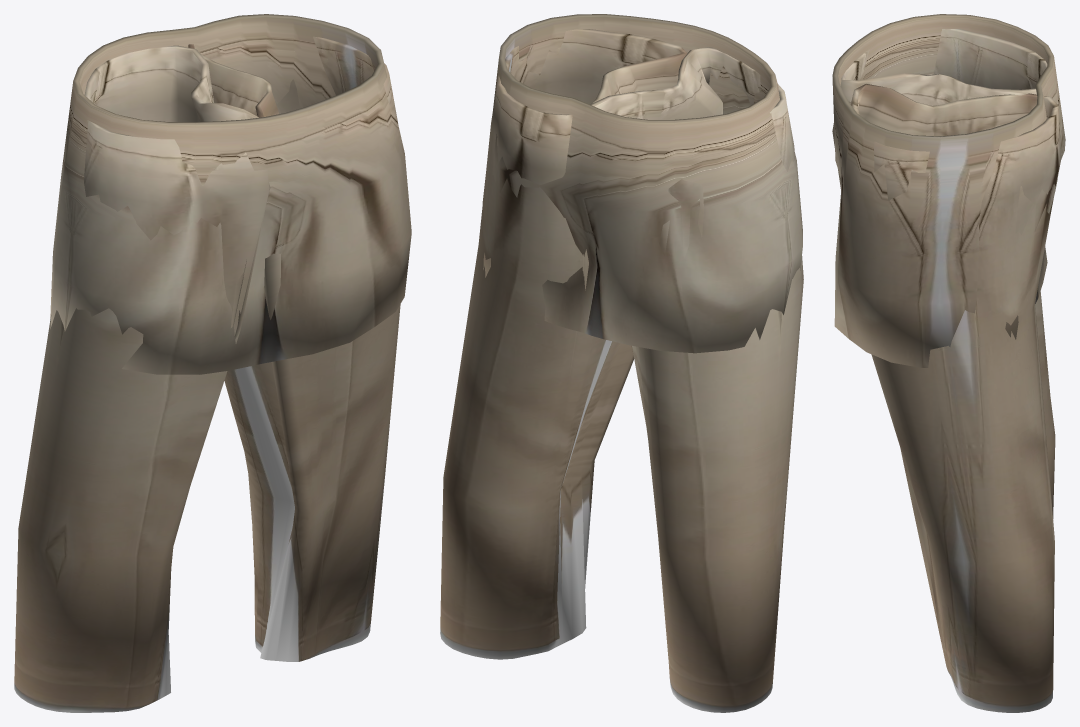
File: e9dc450f-acb9-42a5-9971-faee35e57a48.glb
3 renders of one model, left to right at view 1: azimuth 30°, elevation 25°; view 2: azimuth 150°, elevation 25°; view 3: azimuth 270°, elevation 25°, orthographic. The views are drawn at different scales.
Parts seen in each view (by area): view 1: garment_leg0; view 2: garment_leg0; view 3: garment_leg0.
Part boxes in pixels (x1,y1,x2,y2): garment_leg0: (14, 14, 411, 712); garment_leg0: (440, 14, 803, 712); garment_leg0: (832, 14, 1065, 712).
Size of the model in its own units: 0.4492 by 0.7726 by 0.2885.
1 material, 1 textured.
